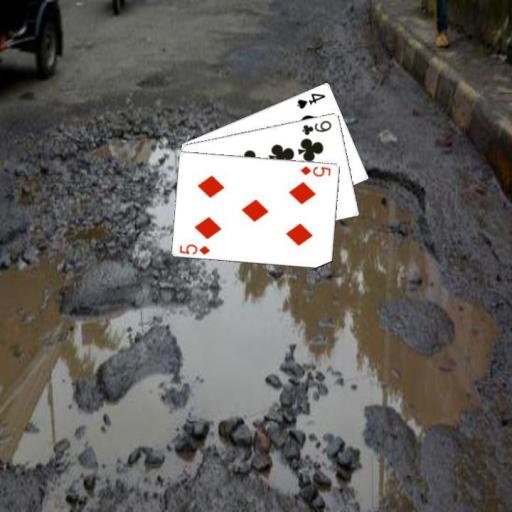4S: (294, 90, 327, 110)
5D: (298, 162, 332, 178), (176, 241, 212, 256)
9C: (299, 117, 333, 137)
